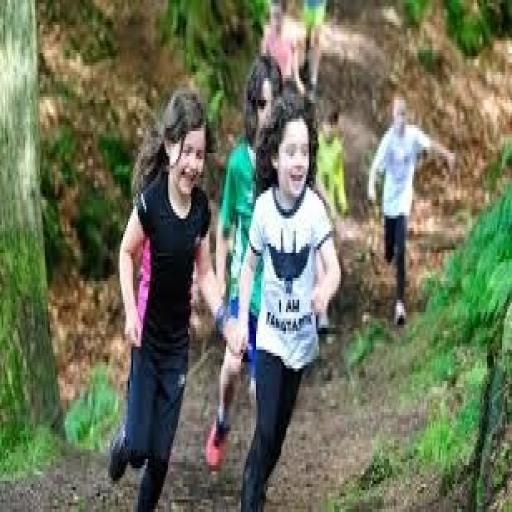running: (106, 84, 236, 509), (231, 87, 344, 509), (364, 90, 459, 331)
